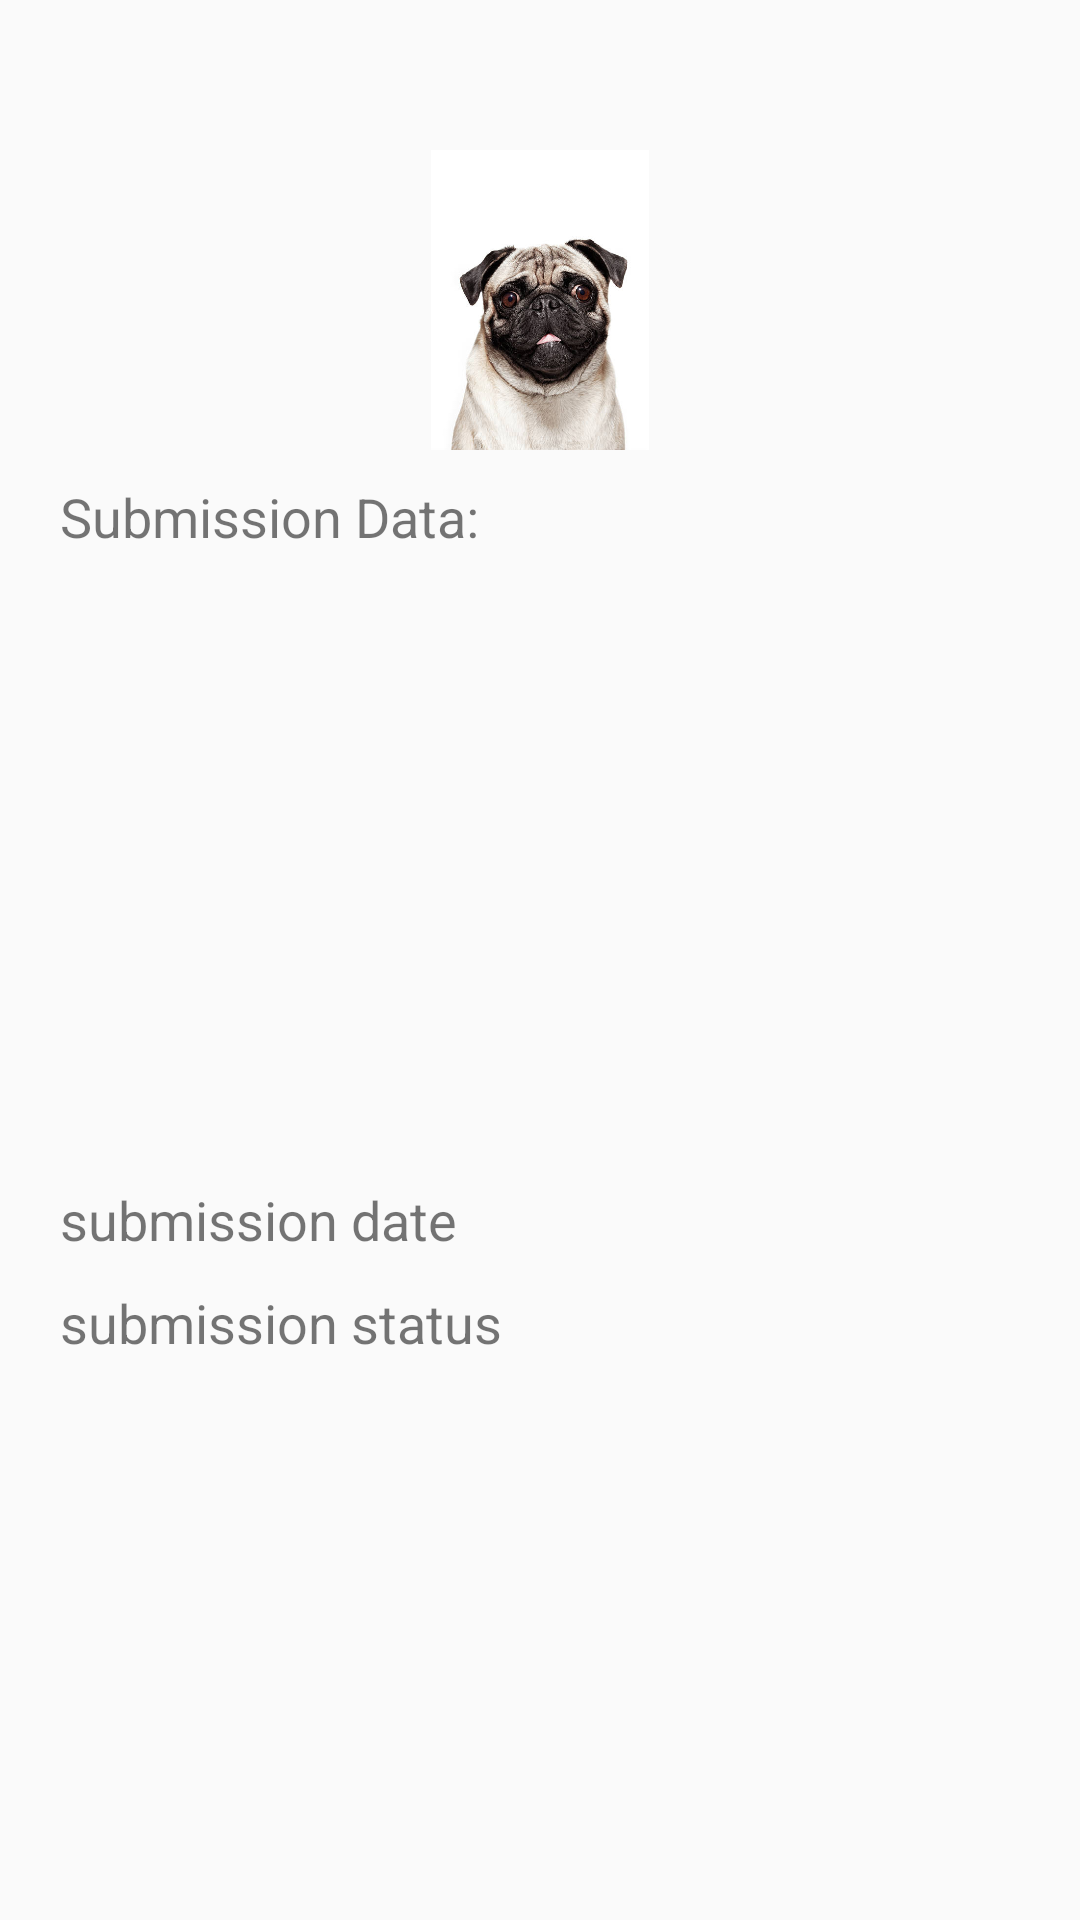

Icons on this 1080 × 1920 Android screen, each with the point to tap as point (x, y):
pug: point (539, 344)
